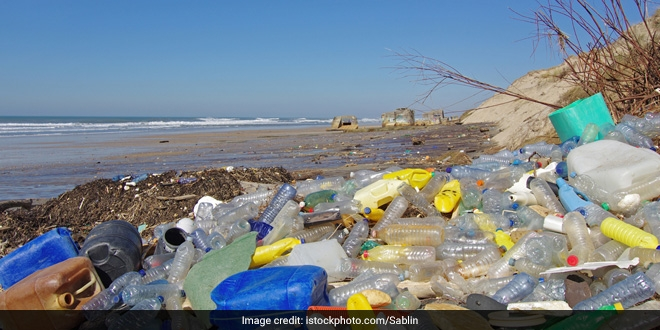plastic: (204, 262, 337, 308), (567, 270, 656, 310), (325, 268, 413, 306), (80, 266, 151, 309), (254, 180, 306, 235), (161, 235, 209, 289), (558, 208, 602, 266), (244, 228, 308, 266), (366, 218, 448, 247), (452, 238, 512, 277), (365, 189, 410, 239), (357, 239, 442, 265), (597, 218, 659, 252), (487, 269, 541, 307), (118, 279, 192, 305), (334, 214, 373, 260), (526, 173, 562, 218), (555, 177, 598, 213), (445, 161, 505, 183), (214, 197, 262, 223), (189, 224, 216, 256)
